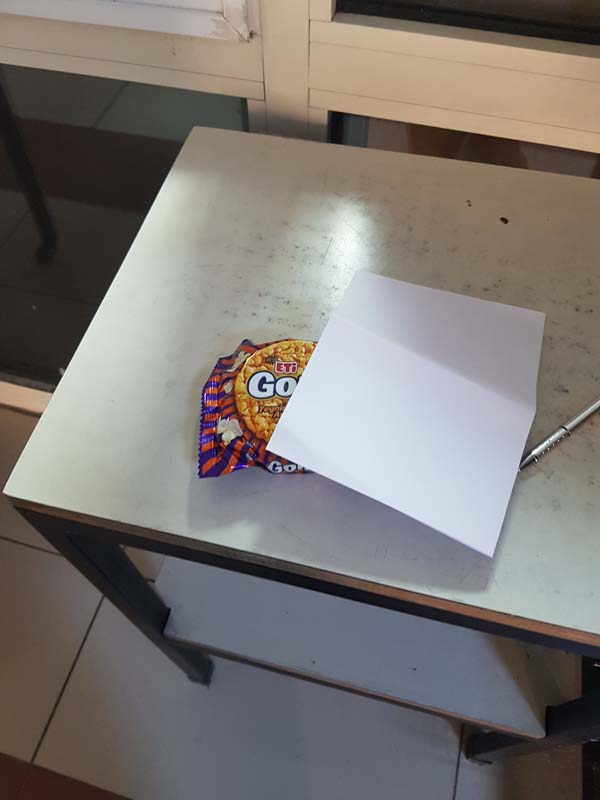etigong: (202, 333, 313, 475)
